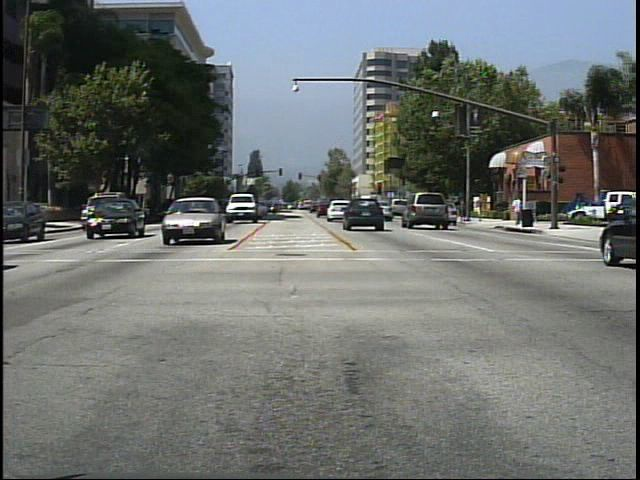person: (509, 193, 524, 229), (473, 193, 486, 224)
